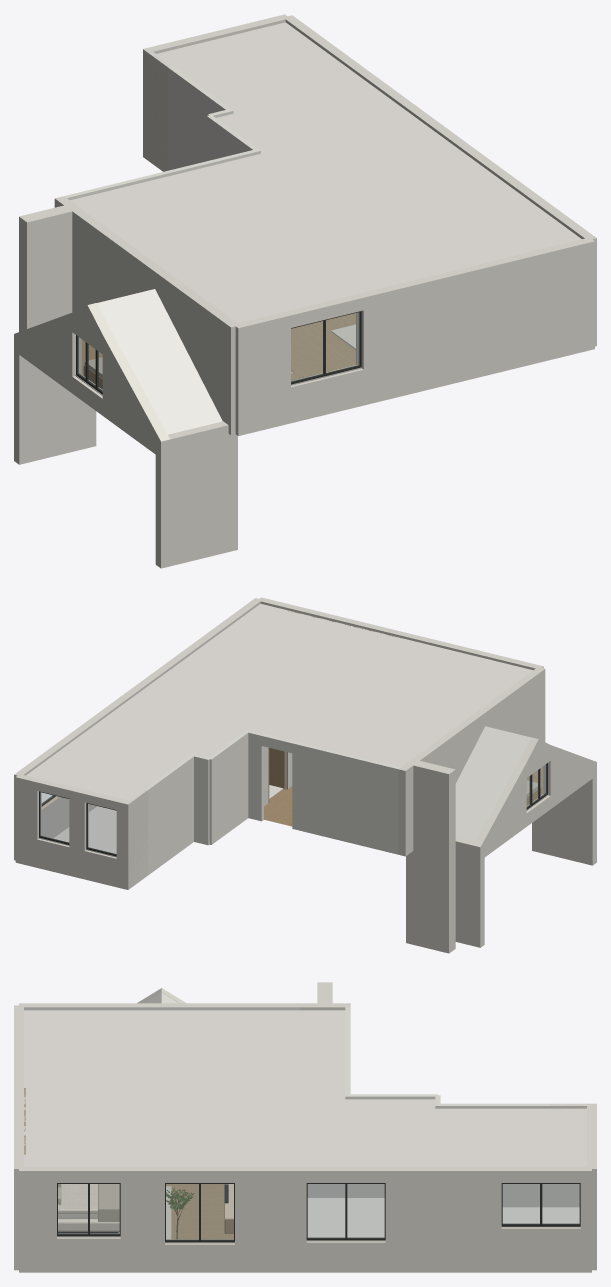
3 renders of one model, top to bottom at view 1: azimuth 30°, elevation 25°; view 2: azimuth 150°, elevation 25°; view 3: azimuth 270°, elevation 25°, orthographic. The views are drawn at different scales.
Parts seen in each view (by area): view 1: Bedroom 02 | ceiling 0, Proposal | New wing south upper end pier.001, Bedroom 02 | ceiling 2, Proposal | Garage wing south return.001, Proposal | West upper principal facade above wing roof.001, Bedroom 02 | retained vault soffit, Proposal | New wing south upper pier 0.001, Proposal | Garage wing north return.001, Proposal | Entrance bay south return.001, Proposal | Guest bathroom west.001, Proposal | New wing south upper window 0 glass.001, Proposal | Continued roof garage wing gable south head 0.001 (+15 smaller); view 2: Bedroom 02 | ceiling 0, Bedroom 02 | ceiling 2, Proposal | Principal suite north partition pier 0.001, Proposal | Entrance bay south return.001, Bedroom 02 | retained vault soffit.001, Proposal | West upper principal facade above wing roof.001, Proposal | Guest bathroom west.001, Proposal | Garage wing south return.001, Proposal | Principal study west wall.001, Proposal | Garage wing north return.001, Proposal | North upper facade east end pier.001, Proposal | Courtyard upper return.001 (+21 smaller); view 3: Bedroom 02 | ceiling 0, Bedroom 02 | ceiling 2, Proposal | New wing east upper end pier.001, Proposal | New wing east upper pier 2.001, Proposal | New wing east upper pier 1.001, Bedroom 02 | floor 2, Proposal | New wing east upper window 2 glass.001, Proposal | New wing east upper pier 0.001, Proposal | New wing east upper window 1 glass.001, Proposal | New wing east upper sill 3, Proposal | New wing east upper window 0 glass.001, Proposal | New wing east upper window 3 glass (+19 smaller).
Part boxes in pixels (x1,y1,x2,y2): Bedroom 02 | ceiling 0: [70, 154, 581, 322]; Proposal | New wing south upper end pier.001: [358, 237, 594, 405]; Bedroom 02 | ceiling 2: [156, 22, 464, 190]; Proposal | Garage wing south return.001: [155, 421, 237, 568]; Proposal | West upper principal facade above wing roof.001: [81, 216, 237, 421]; Bedroom 02 | retained vault soffit: [97, 289, 222, 434]; Proposal | New wing south upper pier 0.001: [233, 311, 290, 435]; Proposal | Garage wing north return.001: [14, 335, 96, 464]; Proposal | Entrance bay south return.001: [19, 203, 81, 331]; Proposal | Guest bathroom west.001: [145, 50, 231, 171]; Proposal | New wing south upper window 0 glass.001: [291, 312, 359, 381]; Proposal | Continued roof garage wing gable south head 0.001: [102, 332, 169, 441]; Bedroom 02 | ceiling 0: [166, 603, 532, 767]; Bedroom 02 | ceiling 2: [26, 673, 286, 800]; Proposal | Principal suite north partition pier 0.001: [292, 741, 401, 854]; Proposal | Entrance bay south return.001: [406, 761, 455, 953]; Bedroom 02 | retained vault soffit.001: [455, 726, 530, 841]; Proposal | West upper principal facade above wing roof.001: [420, 668, 543, 774]; Proposal | Guest bathroom west.001: [128, 754, 193, 885]; Proposal | Garage wing south return.001: [532, 763, 596, 865]; Proposal | Principal study west wall.001: [208, 730, 248, 844]; Proposal | Garage wing north return.001: [455, 837, 484, 947]; Proposal | North upper facade east end pier.001: [15, 774, 41, 867]; Proposal | Courtyard upper return.001: [124, 789, 148, 889]; Bedroom 02 | ceiling 0: [24, 1010, 345, 1166]; Bedroom 02 | ceiling 2: [249, 1099, 586, 1166]; Proposal | New wing east upper end pier.001: [385, 1167, 501, 1272]; Proposal | New wing east upper pier 2.001: [235, 1167, 306, 1272]; Proposal | New wing east upper pier 1.001: [120, 1167, 164, 1272]; Bedroom 02 | floor 2: [307, 1198, 579, 1237]; Proposal | New wing east upper window 2 glass.001: [308, 1184, 384, 1237]; Proposal | New wing east upper pier 0.001: [19, 1167, 56, 1272]; Proposal | New wing east upper window 1 glass.001: [166, 1184, 233, 1239]; Proposal | New wing east upper sill 3: [501, 1227, 580, 1272]; Proposal | New wing east upper window 0 glass.001: [58, 1184, 119, 1233]; Proposal | New wing east upper window 3 glass: [503, 1184, 579, 1223].
Bounding box in the file's own units: 10.72 × 5.35 × 13.28.
Materials: 25 (3 with a texture image).
